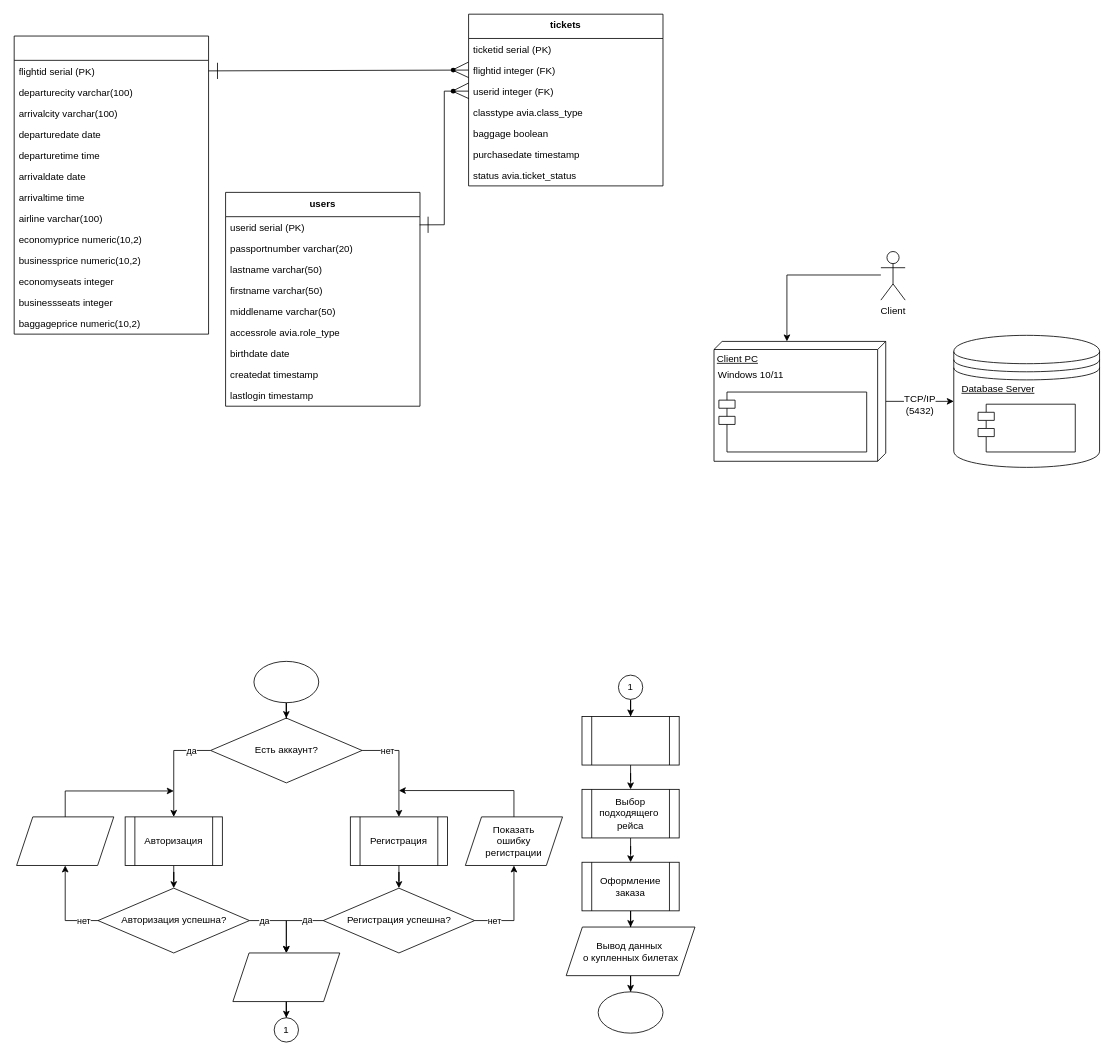
The diagram is 1114 pixels wide and 1056 high, and some of its shapes have lost their labels. Each missing label, with the box of its shape:
.NET 9.0 / .NET Framework WPF Project.exe: (718, 391, 867, 452)
flights: (13, 35, 209, 334)
PosgreSQL 17 AviaDB: (977, 403, 1075, 452)
Вывод доступных рейсов: (232, 952, 340, 1002)
Заполнение фильтров поиска: (581, 716, 679, 765)
Конец: (597, 991, 663, 1033)
Начало: (253, 661, 319, 703)
Показать ошибку авторизации: (16, 816, 114, 865)
